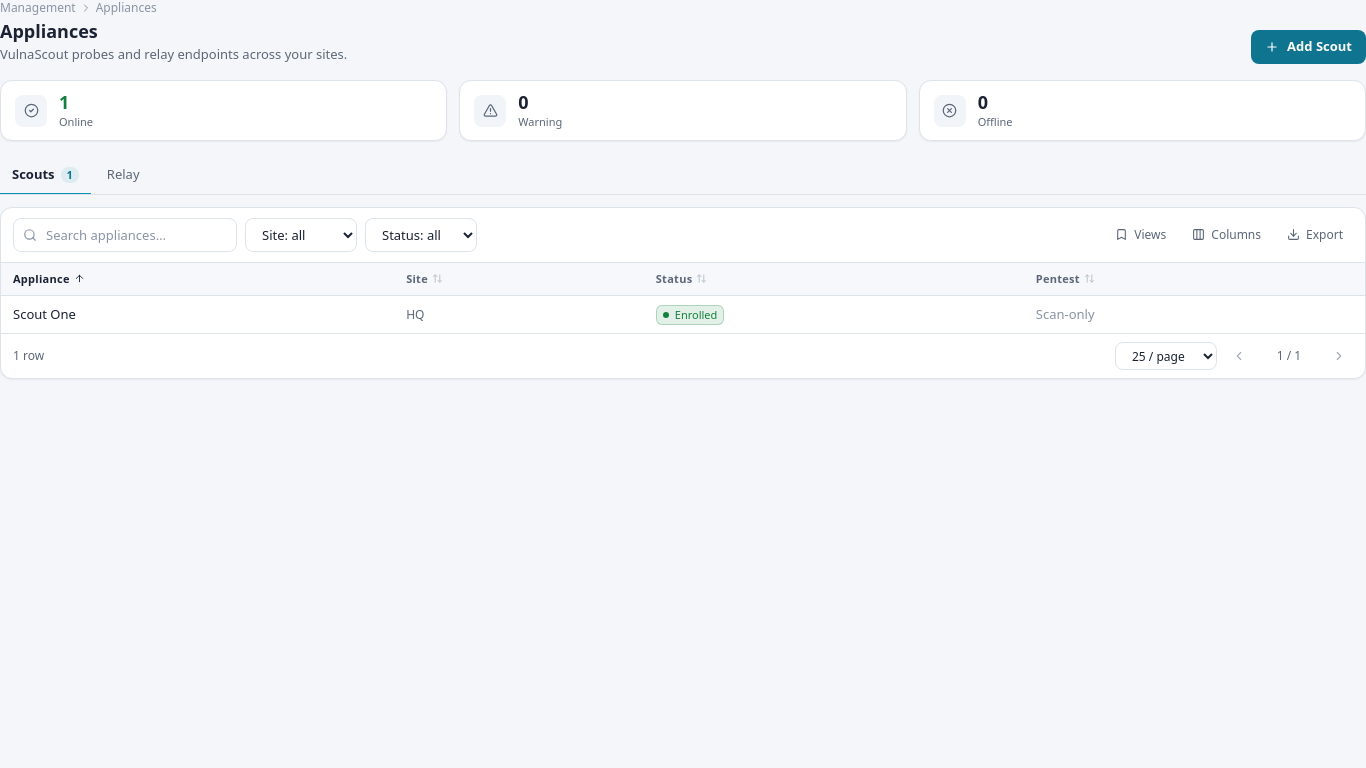
Test case: AppliancesPage › keeps the appliance drawer open and exposes a failed revocation
The image size is (1366, 768).
What coordinates should you click on to do the following:
click the text "Scout One"
I would click on:
 (44, 314)
Its box is x1=13 y1=305 x2=76 y2=323.
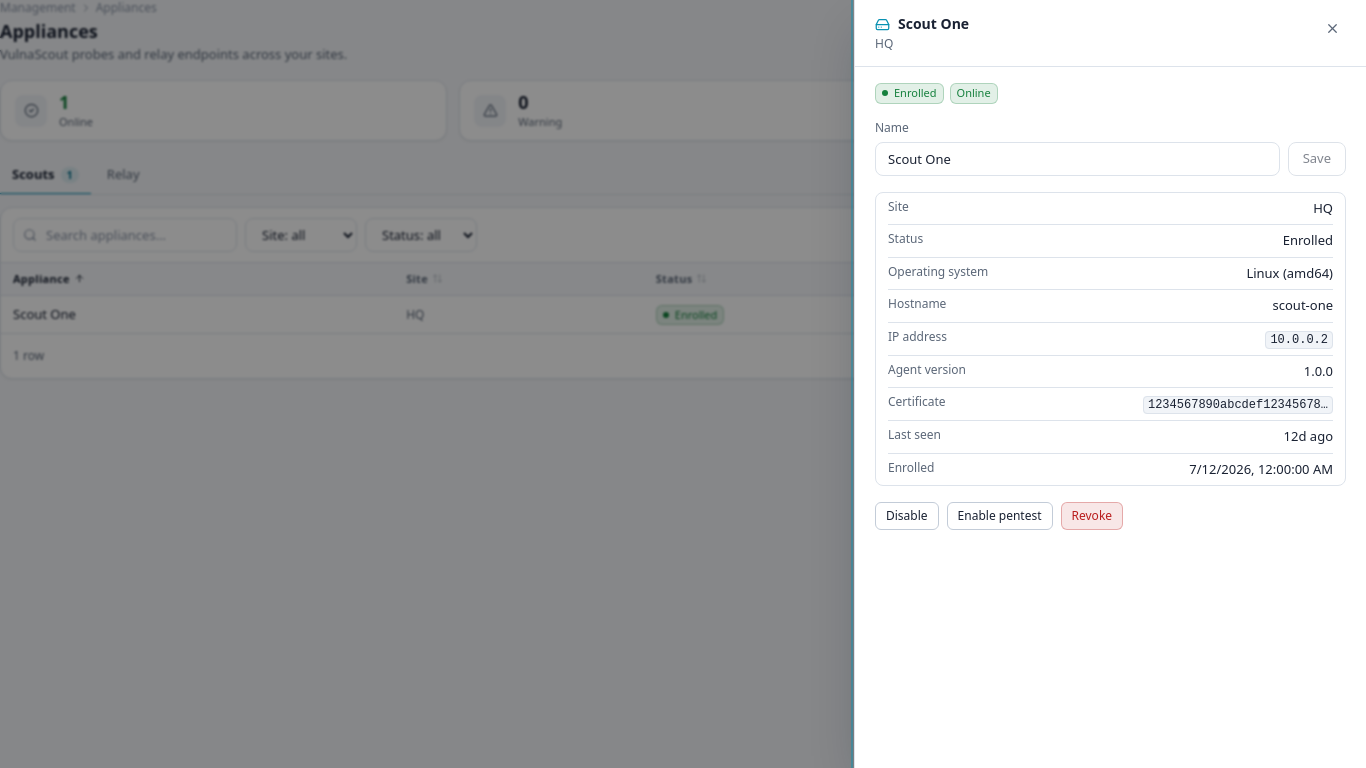
What coordinates should you click on to do the following:
click the button "Revoke"
I would click on:
 (1092, 516)
Its box is x1=1060 y1=502 x2=1123 y2=530.
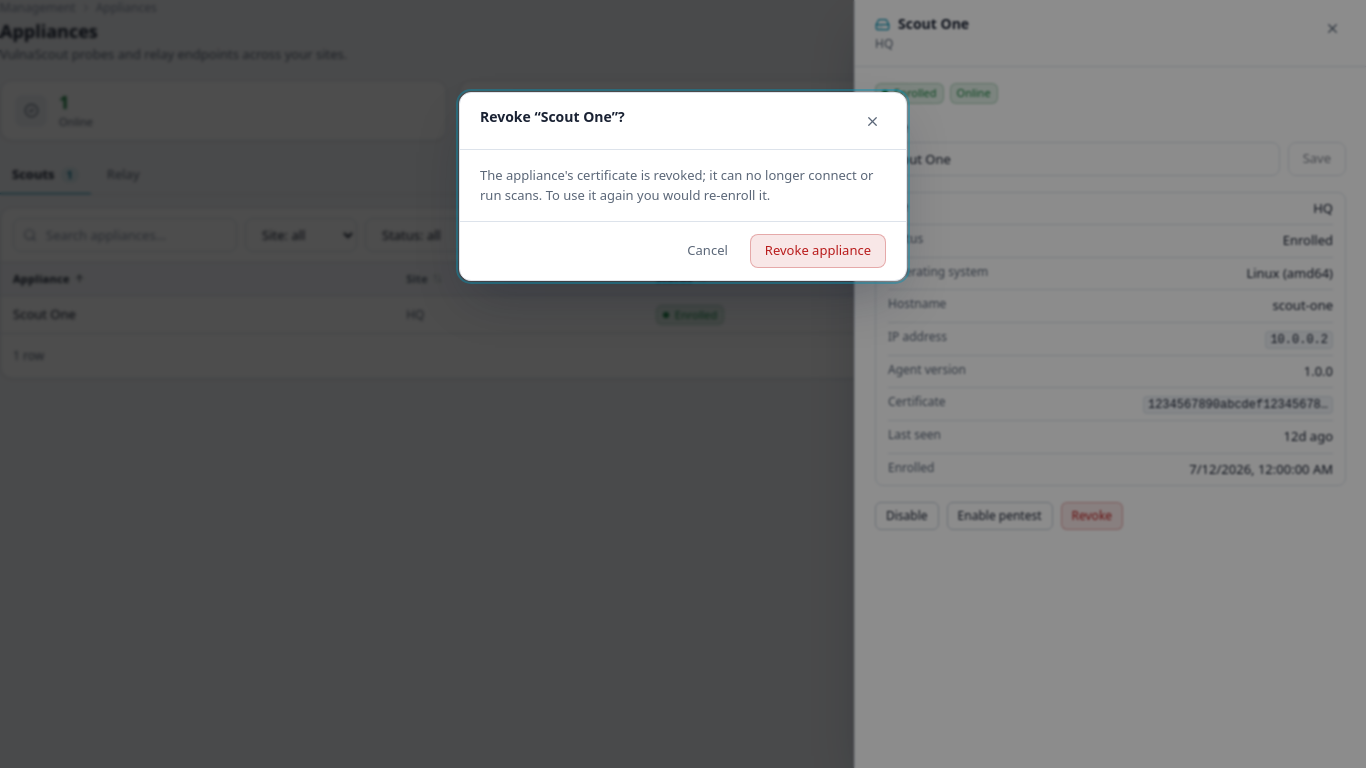
What coordinates should you click on to do the following:
click the button "Revoke appliance"
I would click on:
 (818, 251)
Its box is x1=750 y1=234 x2=886 y2=268.
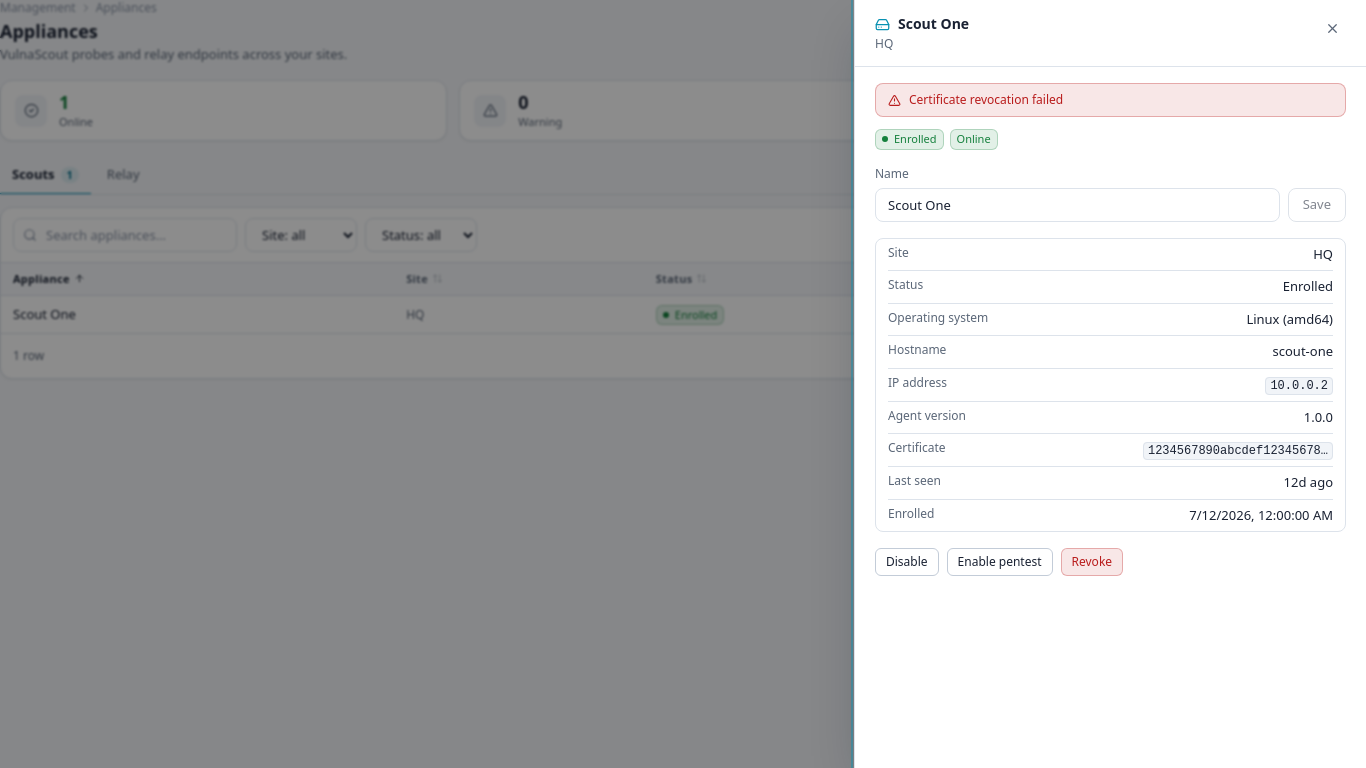
expect the button "Revoke" is shown: met, box x1=1060 y1=548 x2=1123 y2=576
expect the text "Certificate revocation failed" is shown: met, box x1=875 y1=83 x2=1346 y2=117
expect the button "Revoke appliance" is gone: met
